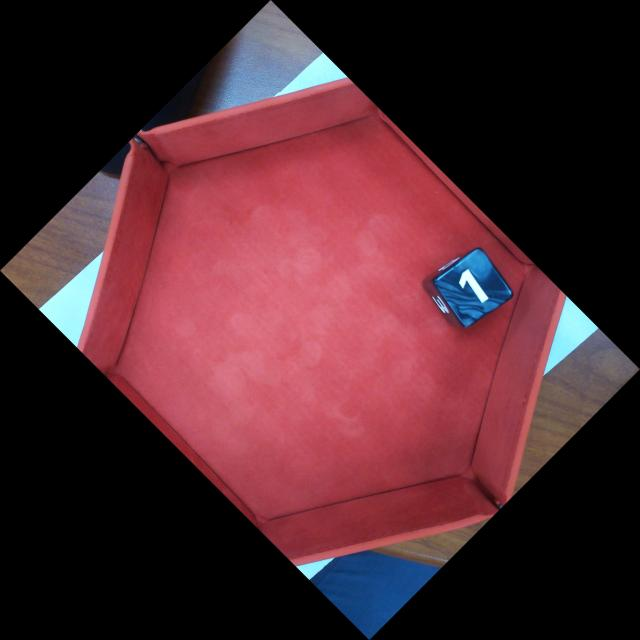dice: (431, 246, 518, 329)
